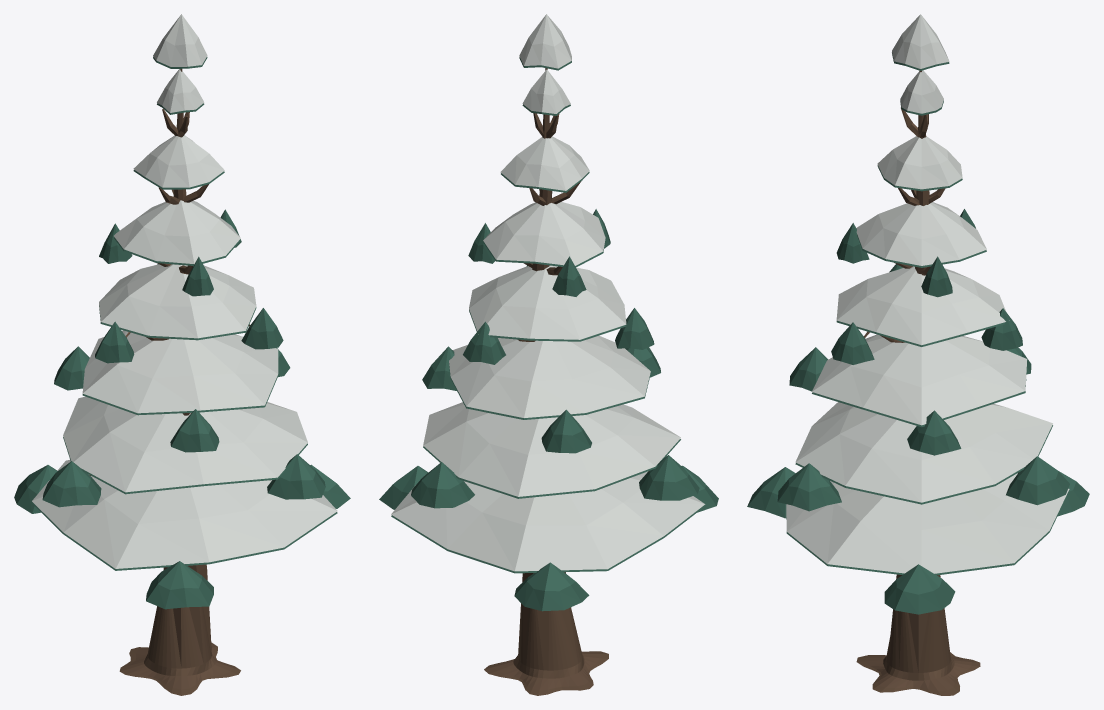
The model's file is spruce_winter.glb.
The picture shows the model from 3 angles, left to right: view 1: azimuth 30°, elevation 25°; view 2: azimuth 150°, elevation 25°; view 3: azimuth 270°, elevation 25°; orthographic projection.
Visible parts, largest first — view 1: snow, leaves, branches; view 2: snow, leaves, branches; view 3: snow, leaves, branches.
Boxes of the visible parts, bbox=[...] form: snow: bbox=[32, 14, 337, 568]; leaves: bbox=[14, 57, 350, 609]; branches: bbox=[89, 69, 249, 695]; snow: bbox=[391, 14, 705, 571]; leaves: bbox=[379, 57, 718, 611]; branches: bbox=[484, 68, 648, 695]; snow: bbox=[786, 14, 1069, 573]; leaves: bbox=[747, 53, 1089, 614]; branches: bbox=[856, 70, 1018, 695].
Bounding box in the file's own units: 2.9 × 5.92 × 2.79.
